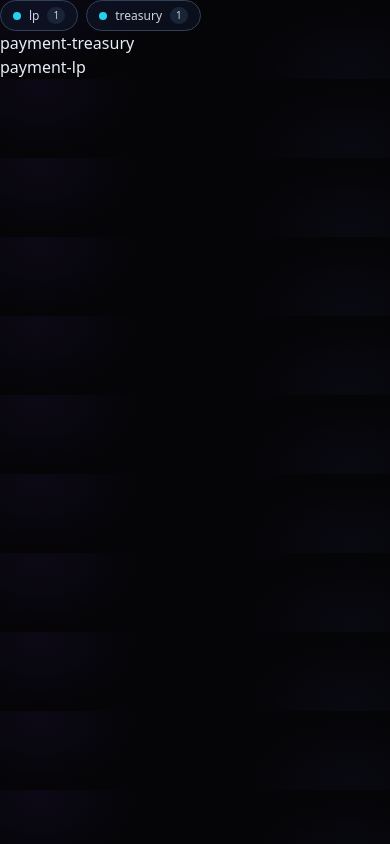
Test: wallet tag filter chips integration › clears all selected tags from the URL
Click the button with test id "filter-chip-treasury" at (143, 16), box top-left (86, 0), bottom-right (201, 31)
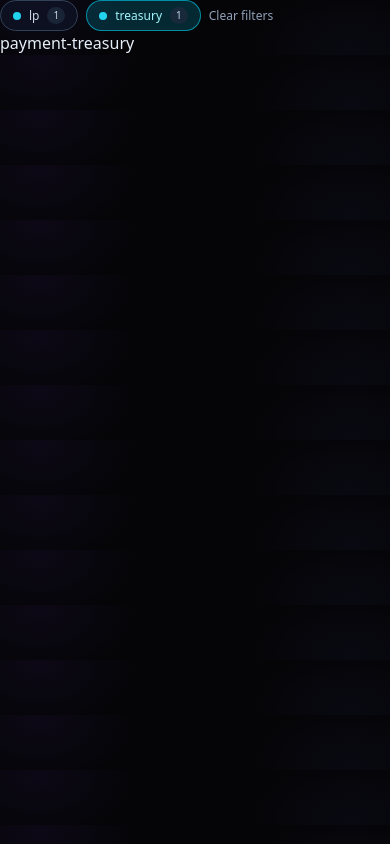
Click the button with test id "filter-chip-clear" at (241, 16), box top-left (209, 8), bottom-right (273, 24)
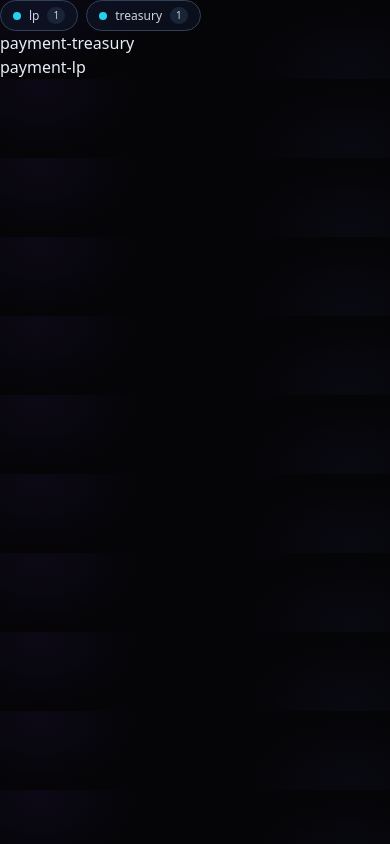
Expected: the list item "payment-treasury" is shown, top-left (0, 32), bottom-right (134, 54)
Result: the list item "payment-lp" is shown at top-left (0, 56), bottom-right (86, 78)
